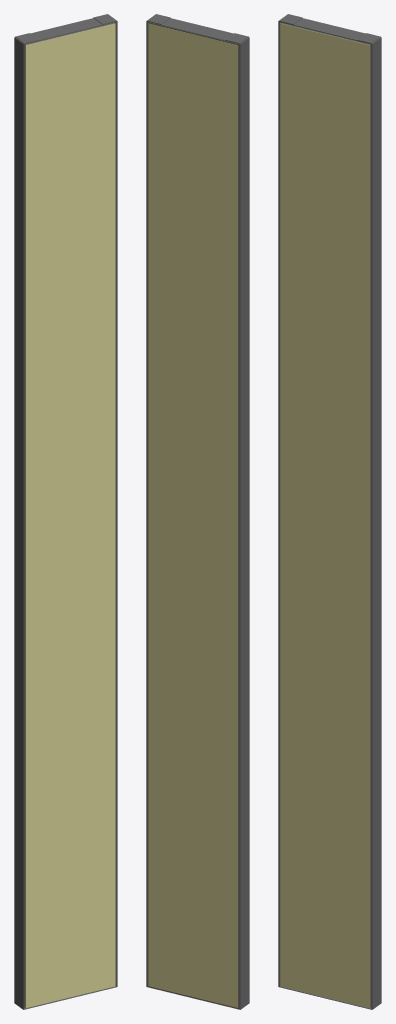
File: Standard 9.5.glb
3 views of the same model, side by side, from view 1: azimuth 30°, elevation 25°; view 2: azimuth 150°, elevation 25°; view 3: azimuth 330°, elevation 25° (orthographic).
Parts seen in each view (by area): view 1: toggle_back_panel.002, Standard 9.5; view 2: Standard 9.5; view 3: toggle_back_panel.002, Standard 9.5.
Boxes of the visible parts, x1,y1,x2,y2 form: toggle_back_panel.002: (25,23,115,1007); Standard 9.5: (14,14,117,1009); Standard 9.5: (146,14,249,1009); toggle_back_panel.002: (280,23,370,1007); Standard 9.5: (278,14,381,1009).
Size of the model in its own units: 0.241 by 2.36 by 0.042.
